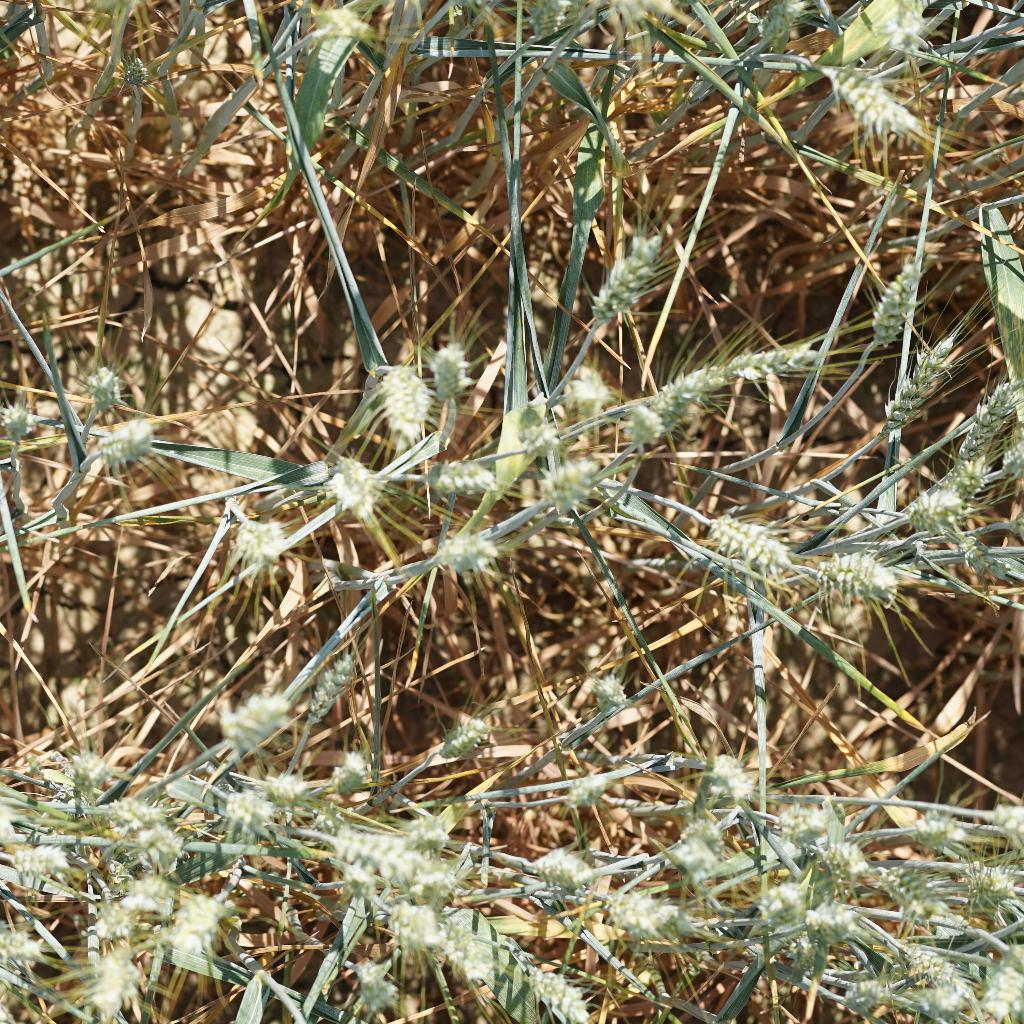0-0: (572, 201, 684, 331), (806, 45, 938, 148), (683, 489, 804, 572), (877, 322, 959, 432), (808, 535, 919, 615), (946, 367, 1024, 480), (430, 504, 534, 583), (859, 250, 931, 352), (205, 680, 303, 752), (716, 326, 836, 384), (223, 497, 310, 576), (806, 791, 885, 878), (332, 826, 441, 889), (679, 737, 761, 813), (83, 925, 152, 1015), (103, 804, 191, 874), (367, 346, 429, 444), (519, 950, 604, 1021), (526, 834, 613, 899), (320, 444, 399, 515), (419, 321, 488, 402), (875, 862, 961, 926), (897, 933, 975, 1002), (100, 863, 186, 925), (662, 357, 736, 429), (875, 10, 955, 75), (541, 346, 616, 414), (957, 945, 1024, 1021), (451, 907, 505, 996), (900, 466, 970, 534), (381, 886, 449, 956), (606, 882, 690, 938), (657, 813, 729, 877), (167, 884, 230, 956), (744, 873, 807, 945), (426, 707, 503, 765), (606, 392, 683, 449), (965, 856, 1020, 935), (418, 447, 503, 497), (516, 415, 583, 477), (86, 406, 155, 465), (576, 664, 642, 725), (62, 735, 124, 799), (0, 834, 78, 884), (733, 2, 811, 51), (909, 798, 970, 860), (75, 351, 137, 411), (807, 889, 869, 949), (314, 657, 363, 732), (834, 957, 893, 1019), (317, 0, 399, 44), (325, 743, 380, 802), (352, 956, 407, 1013), (225, 784, 273, 838), (953, 436, 994, 499), (261, 766, 324, 807), (522, 0, 572, 50), (115, 38, 159, 94), (0, 399, 38, 443)
